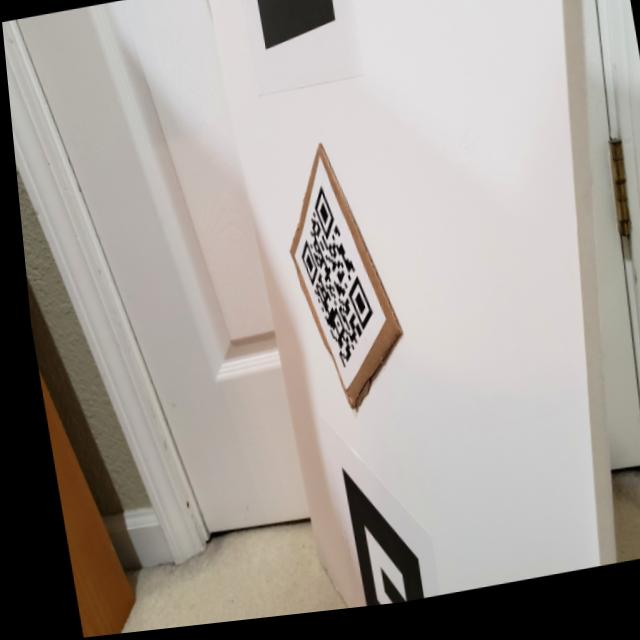QR_CODE: (275, 181, 383, 389)
